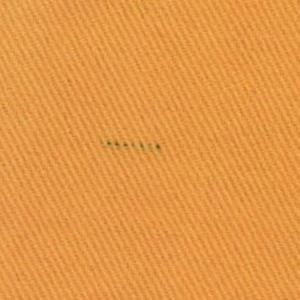stain: (101, 136, 167, 157)
